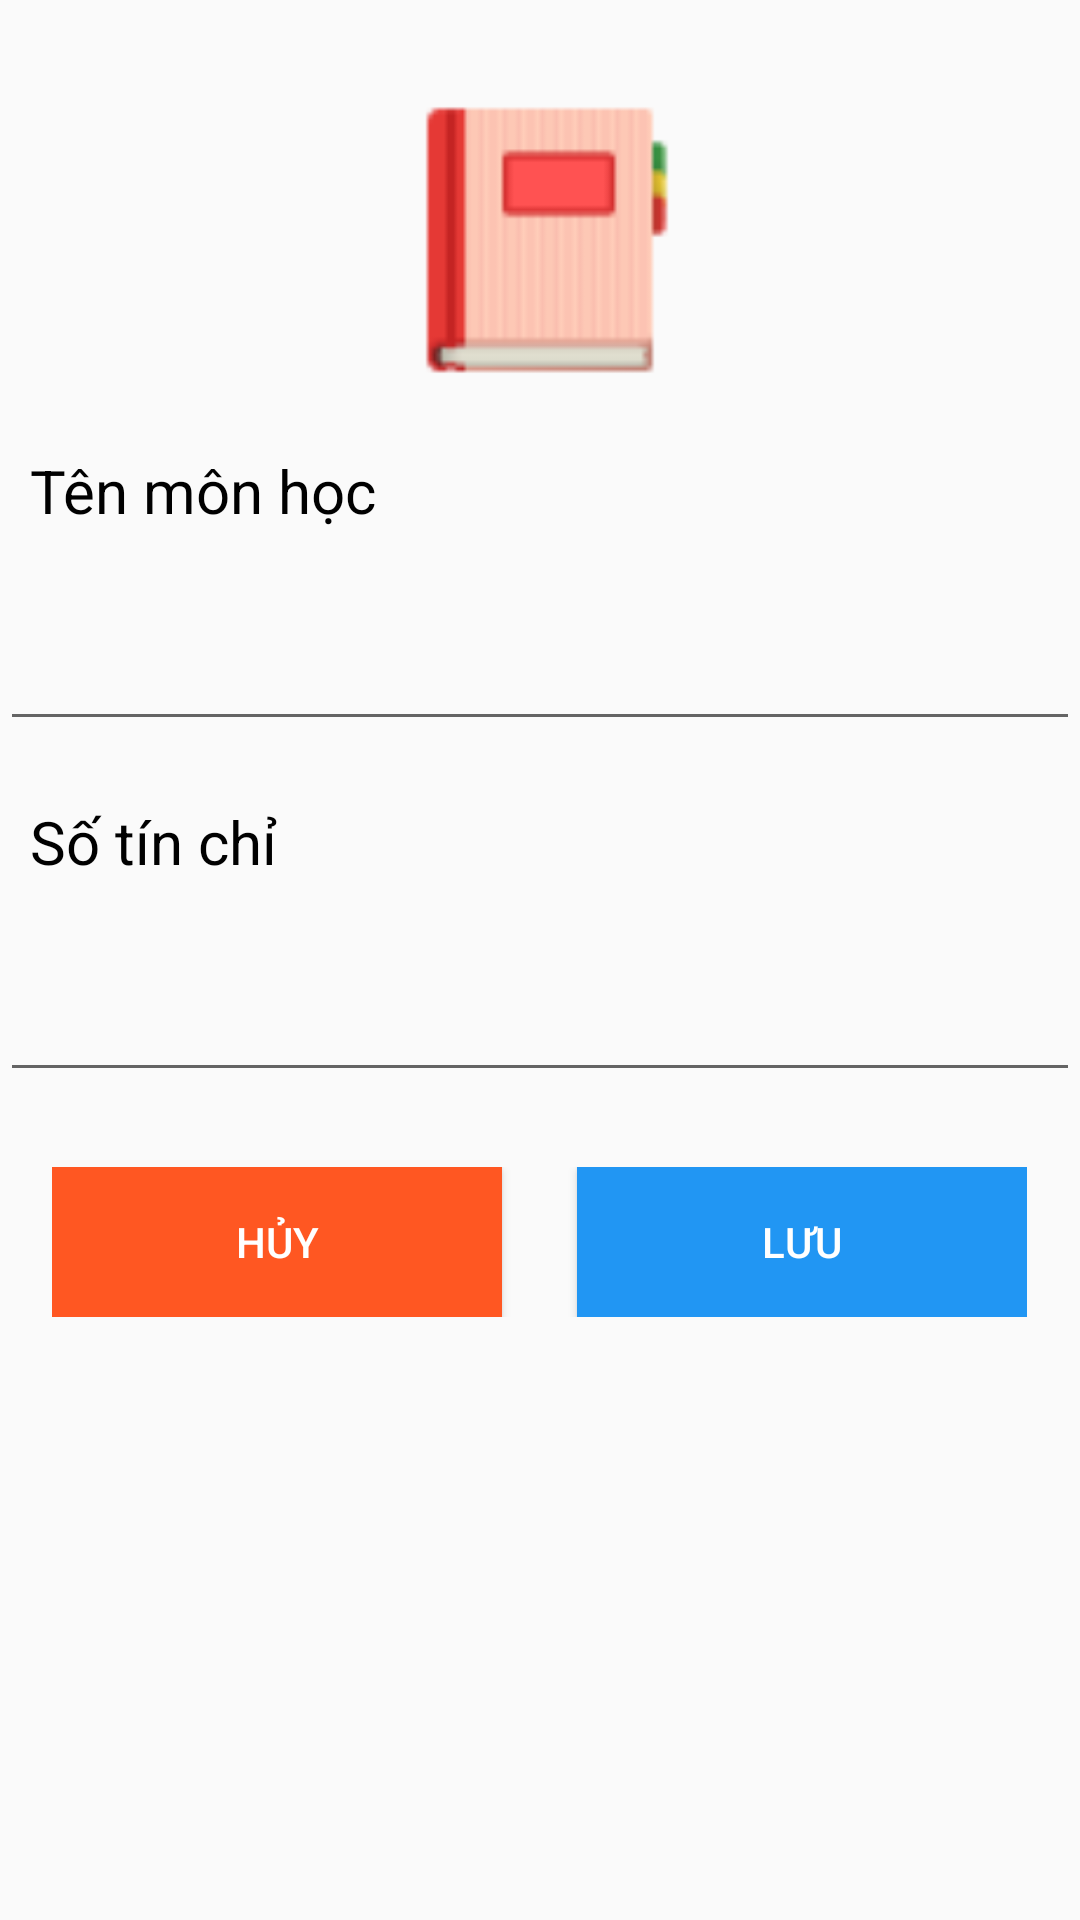

Named icons in this screenshot (1080 x 1920) and their centers, (x,y):
monhoc: (547,240)
